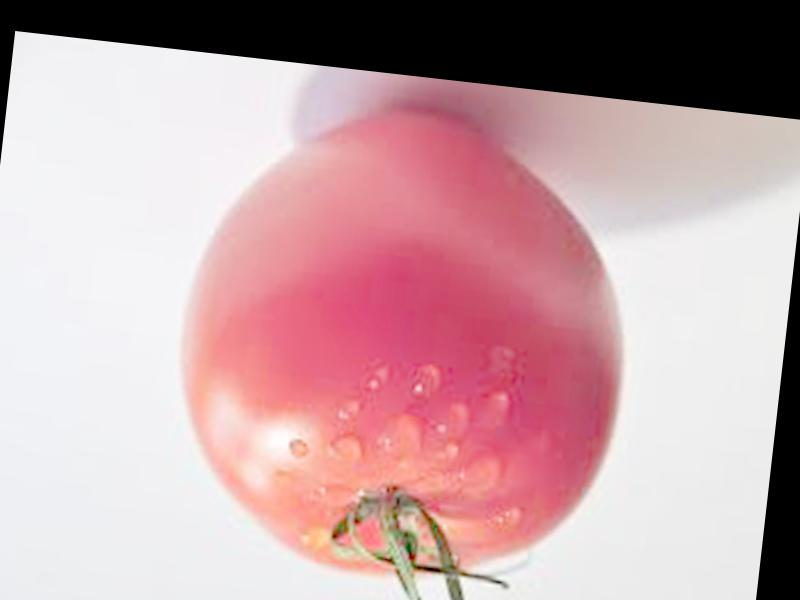Tomato: (157, 88, 647, 594)
